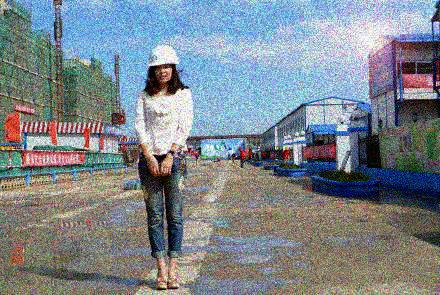helmet: (146, 44, 180, 84)
